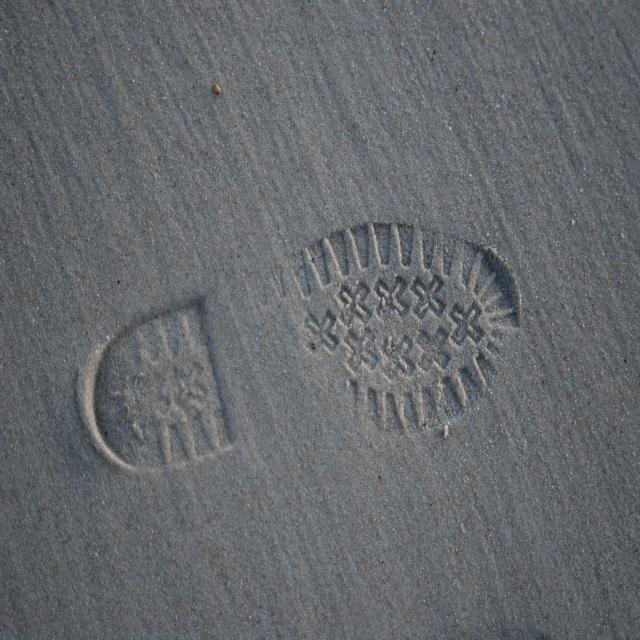human_foot_print: (33, 172, 634, 511), (290, 218, 524, 439)
